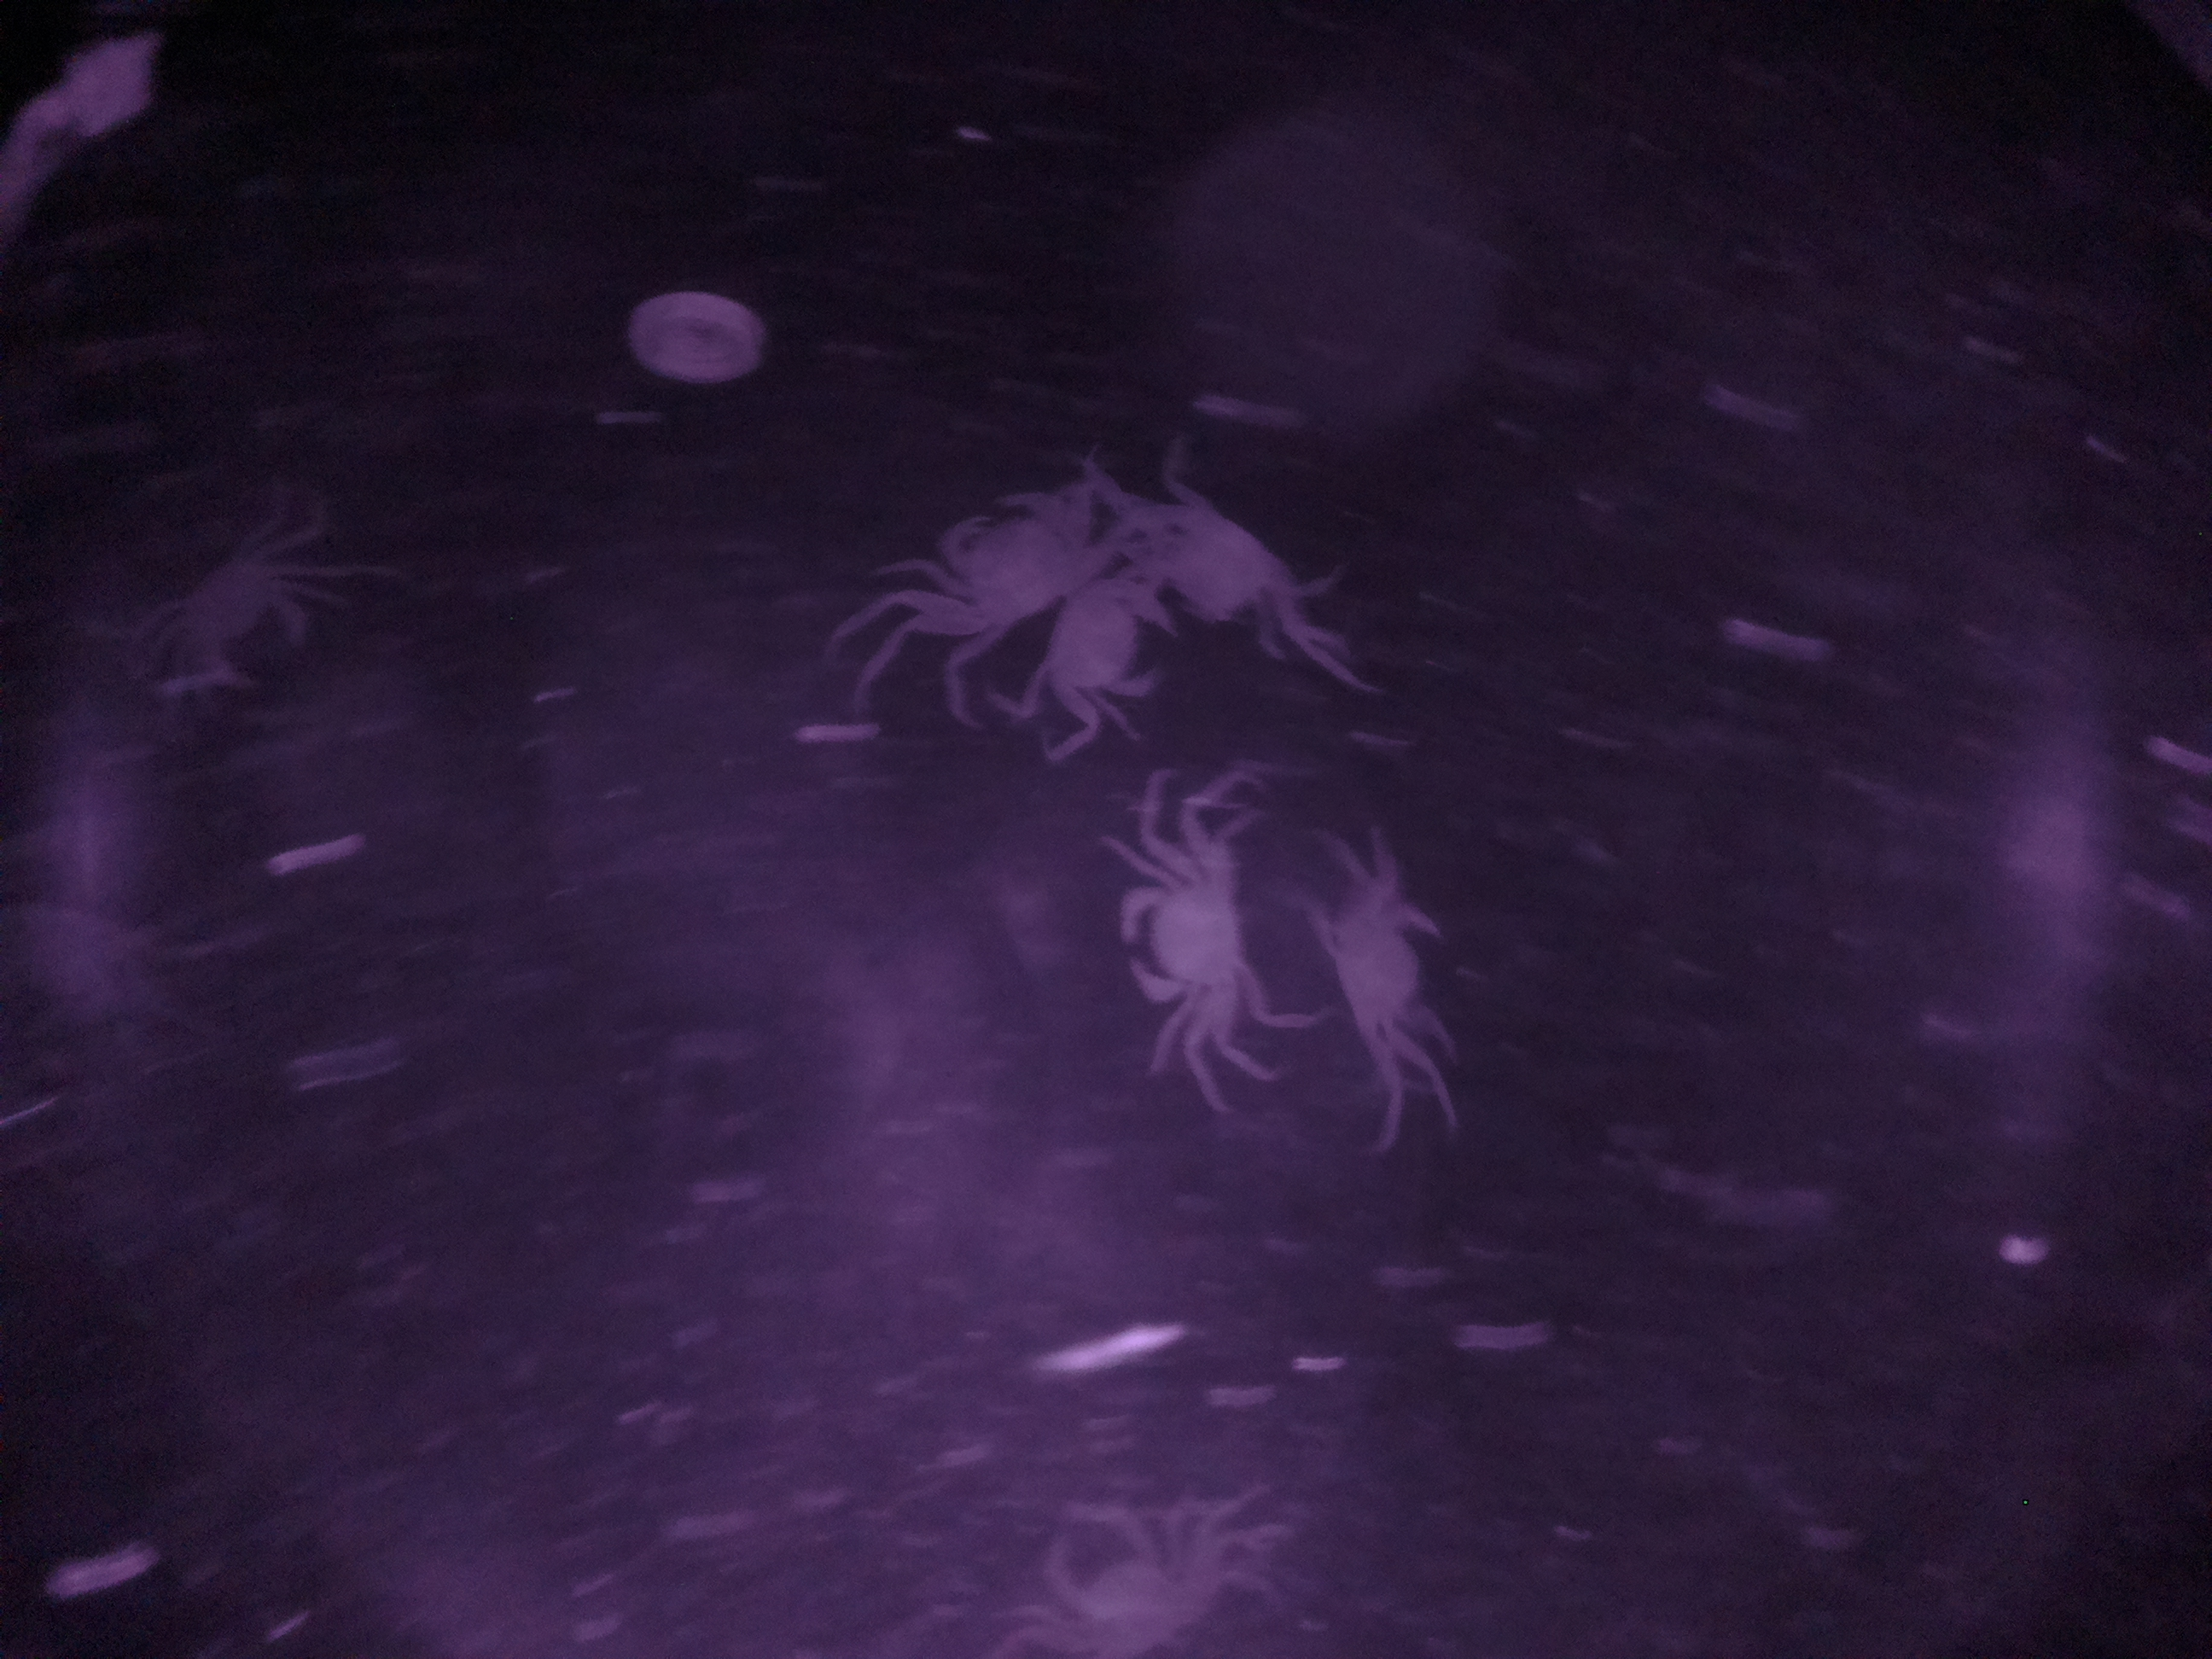Crab: (1099, 819, 1266, 1053)
